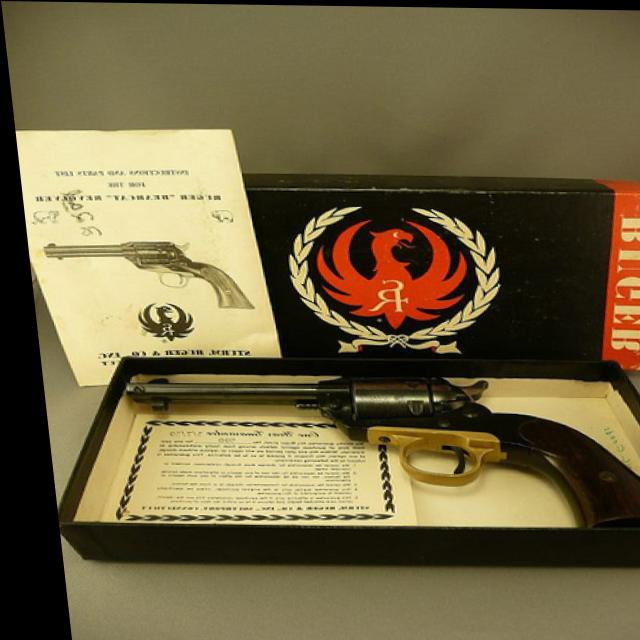handgun: (114, 365, 640, 522), (35, 234, 254, 309)
